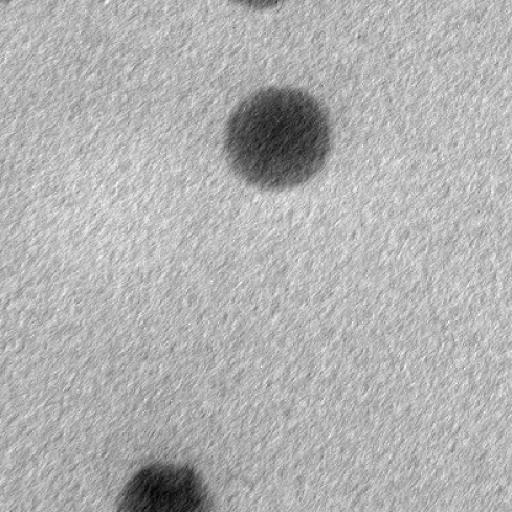Nanoparticles: (225, 87, 334, 189), (116, 457, 217, 512), (238, 0, 290, 11)
